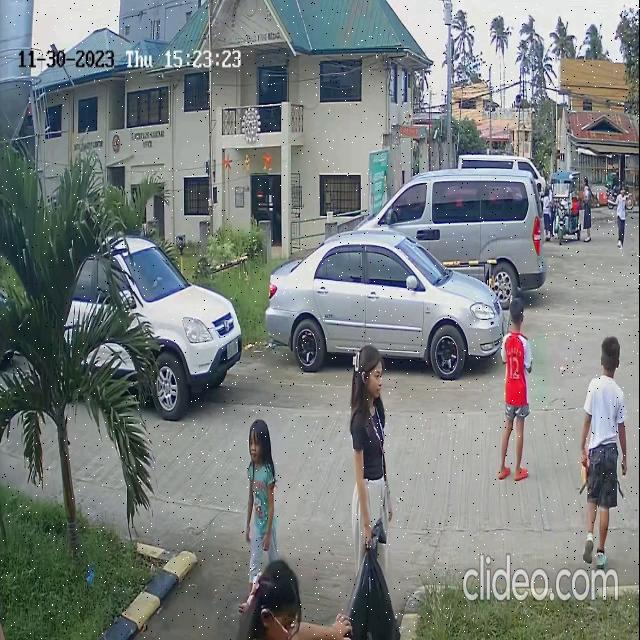garbage_dumping: (352, 521, 403, 640)
